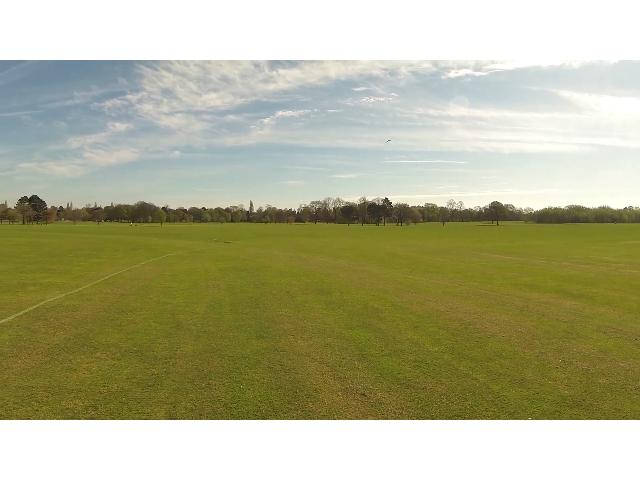Anti-Drone: (382, 137, 394, 148)
